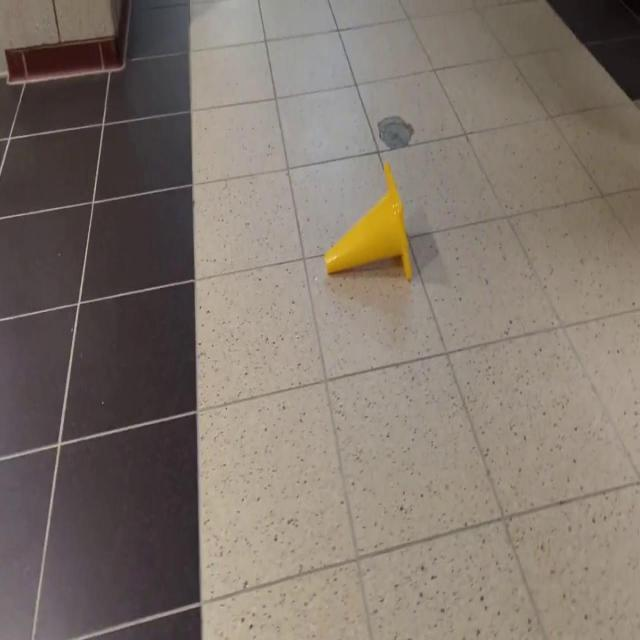frc_cone: (322, 159, 414, 288)
